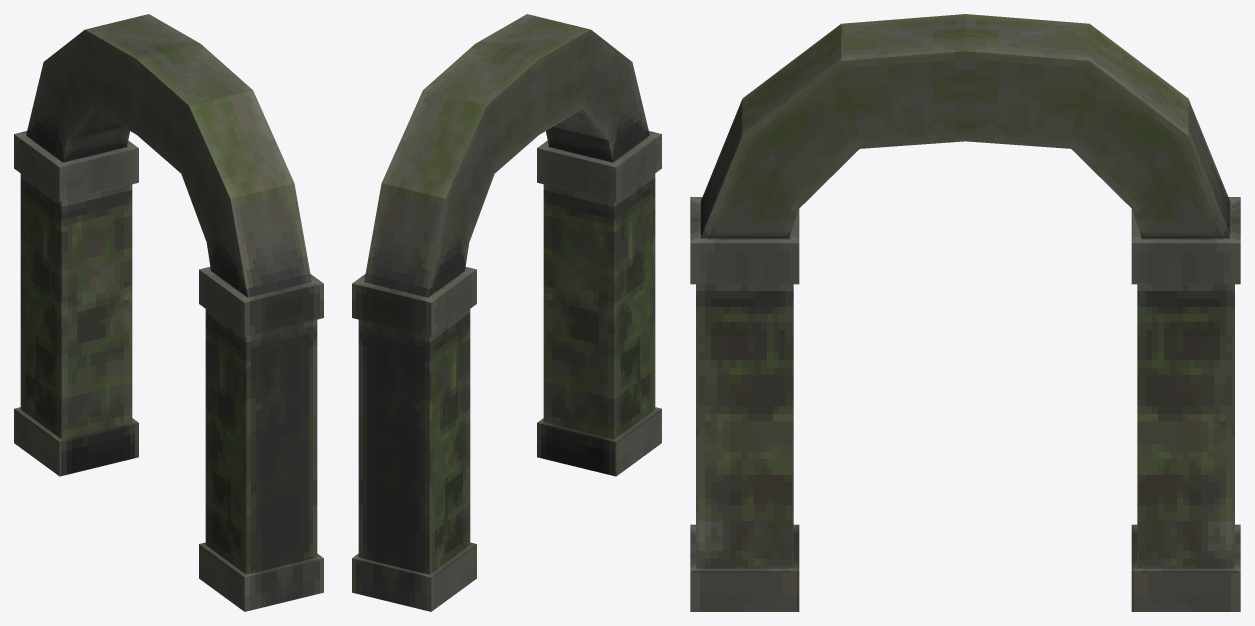
The model's file is item_halloween_fence_arch.glb.
3 views of the same model, side by side, from view 1: azimuth 30°, elevation 25°; view 2: azimuth 150°, elevation 25°; view 3: azimuth 270°, elevation 25° (orthographic). The views are drawn at different scales.
Visible parts, largest first — view 1: fence_arch; view 2: fence_arch; view 3: fence_arch.
Part boxes in pixels (x1,y1,x2,y2): fence_arch: (14, 14, 323, 611); fence_arch: (352, 14, 661, 611); fence_arch: (690, 14, 1240, 611).
Bounding box in the file's own units: 0.3202 × 1.8 × 1.61.
Materials: 1 (1 with a texture image).
